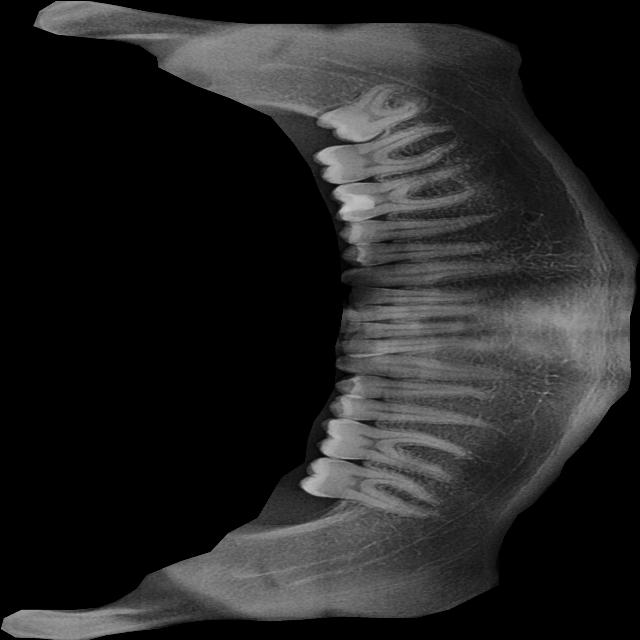mandibula: (0, 0, 640, 640)
